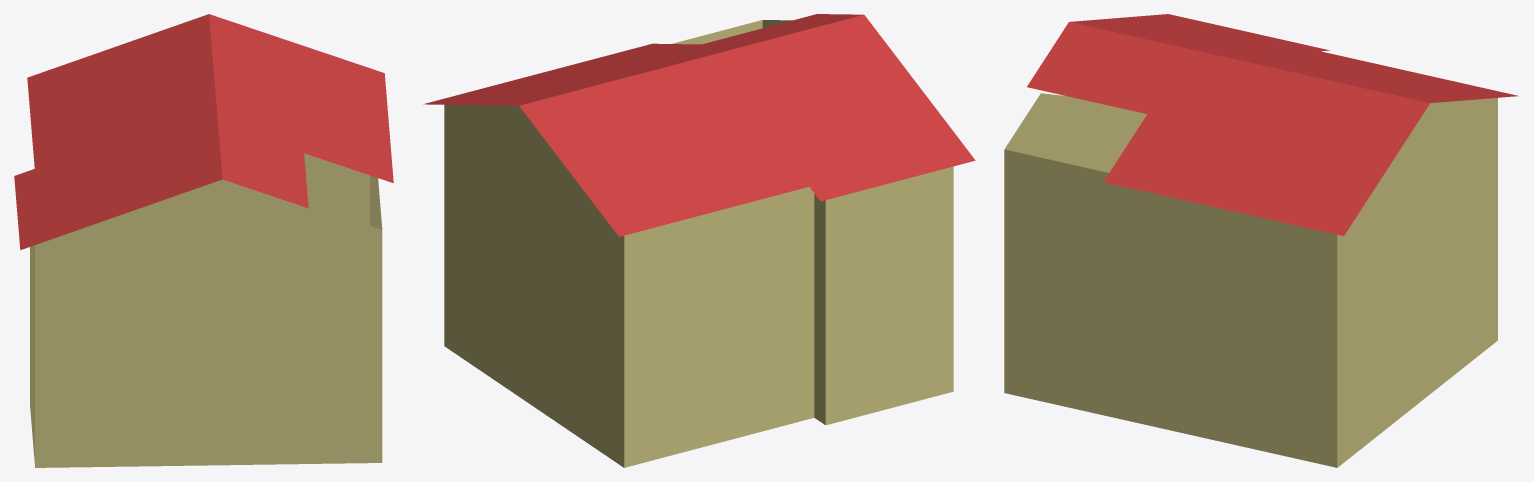
3 views of the same model, side by side, from view 1: azimuth 30°, elevation 25°; view 2: azimuth 150°, elevation 25°; view 3: azimuth 270°, elevation 25° (orthographic). The views are drawn at different scales.
Bounding box in the file's own units: 16.83 × 16.02 × 10.48.
